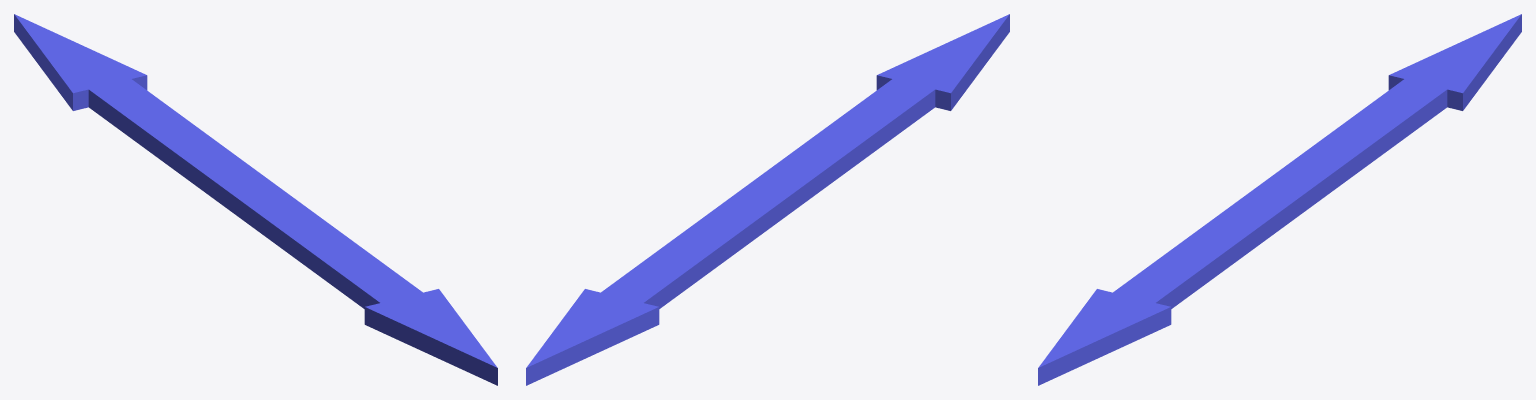
Rendered from Flecha.dae.
3 views of the same model, side by side, from view 1: azimuth 30°, elevation 25°; view 2: azimuth 150°, elevation 25°; view 3: azimuth 330°, elevation 25° (orthographic).
Parts seen in each view (by area): view 1: SketchUp; view 2: SketchUp; view 3: SketchUp.
Boxes of the visible parts, x1,y1,x2,y2 form: SketchUp: [14, 14, 497, 385]; SketchUp: [526, 14, 1009, 385]; SketchUp: [1038, 14, 1521, 385].
Bounding box in the file's own units: 3.41 × 38.54 × 0.7874.
